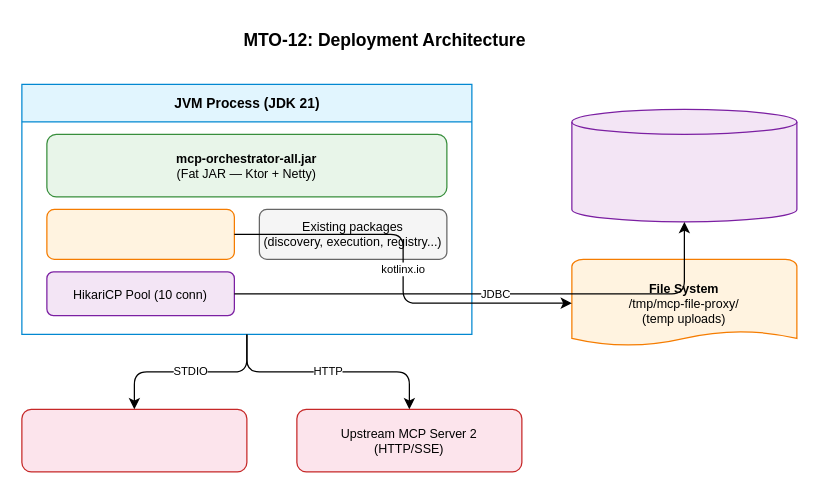
The diagram is 819 pixels wide and 494 high, and some of its shapes have lost their labels. Here are the shapes that lost their labels. From the top down, the centre of each, then its label:
the point at 684,165: PostgreSQL 16+ Database: jira_assistant Table: file_proxy_registry
the point at 140,233: fileproxy package (NEW)
the point at 134,440: Upstream MCP Server 1 (STDIO process)
